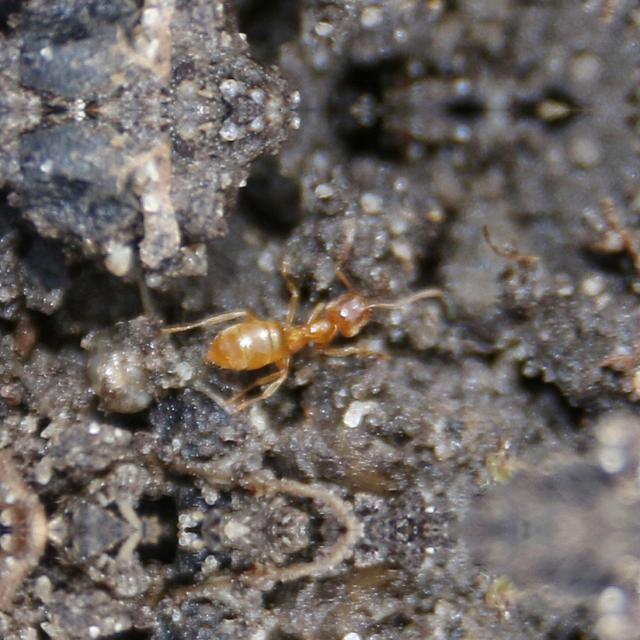Lasius: (200, 260, 398, 386)
